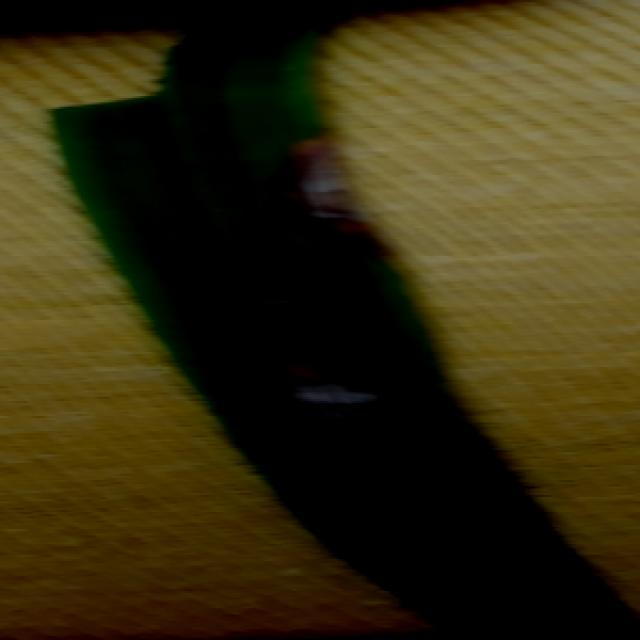Brown_Spot: (265, 310, 426, 493)
